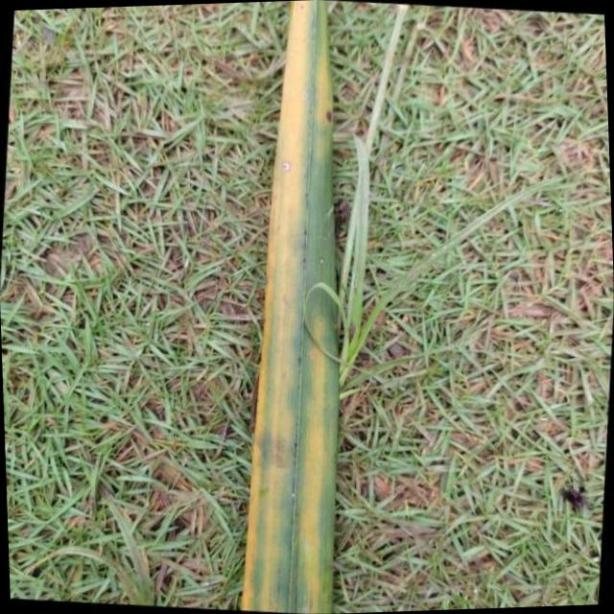Megnesium: (238, 0, 341, 614)
